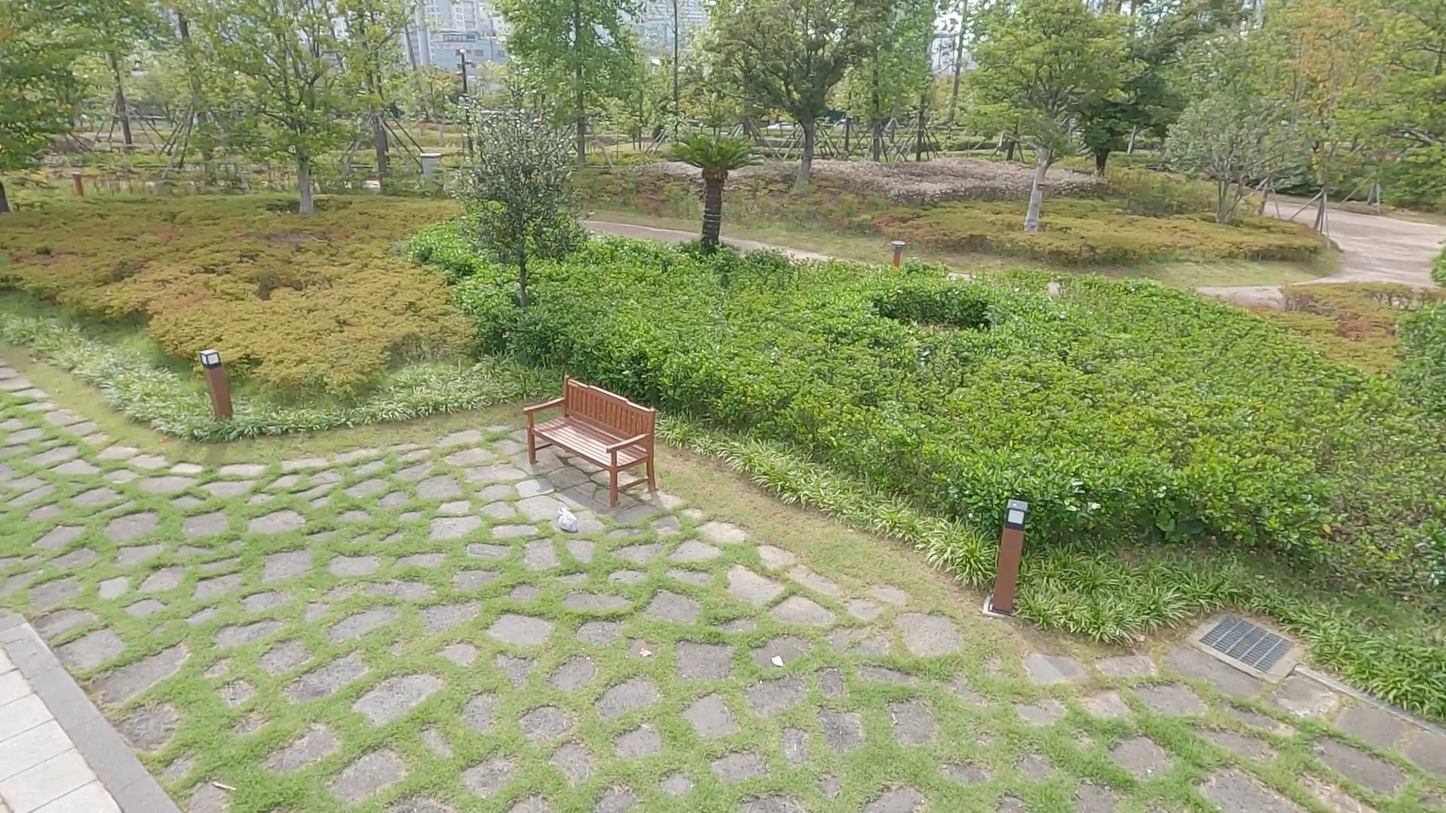trash: (558, 503, 579, 535)
